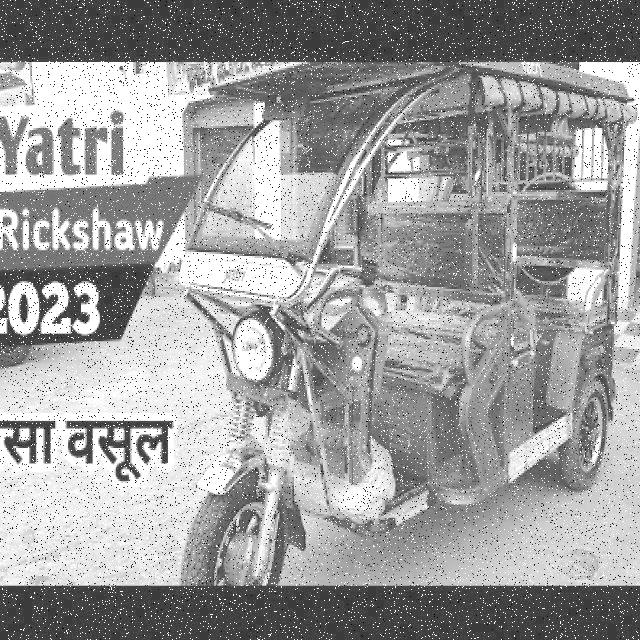Toto: (183, 61, 632, 581)
